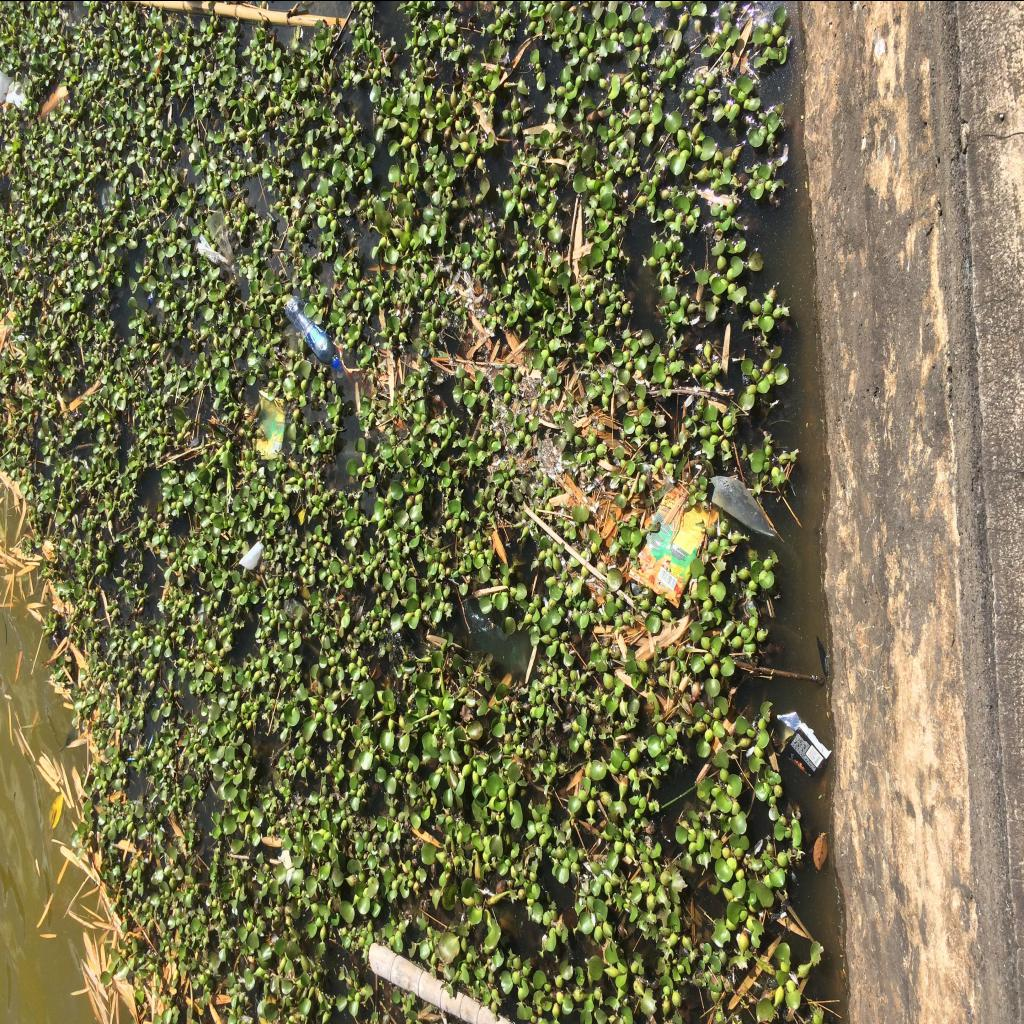Clear plastic bottle: (286, 294, 344, 370)
Other plastic: (628, 485, 720, 607), (776, 711, 832, 777), (256, 385, 286, 459)
Plastic bottle cap: (333, 358, 343, 370)
Plastic film: (710, 476, 779, 536), (464, 598, 508, 648), (198, 206, 234, 266)
Unlabeled litter: (238, 540, 264, 570), (6, 80, 28, 108), (0, 70, 14, 103), (146, 290, 156, 304)
